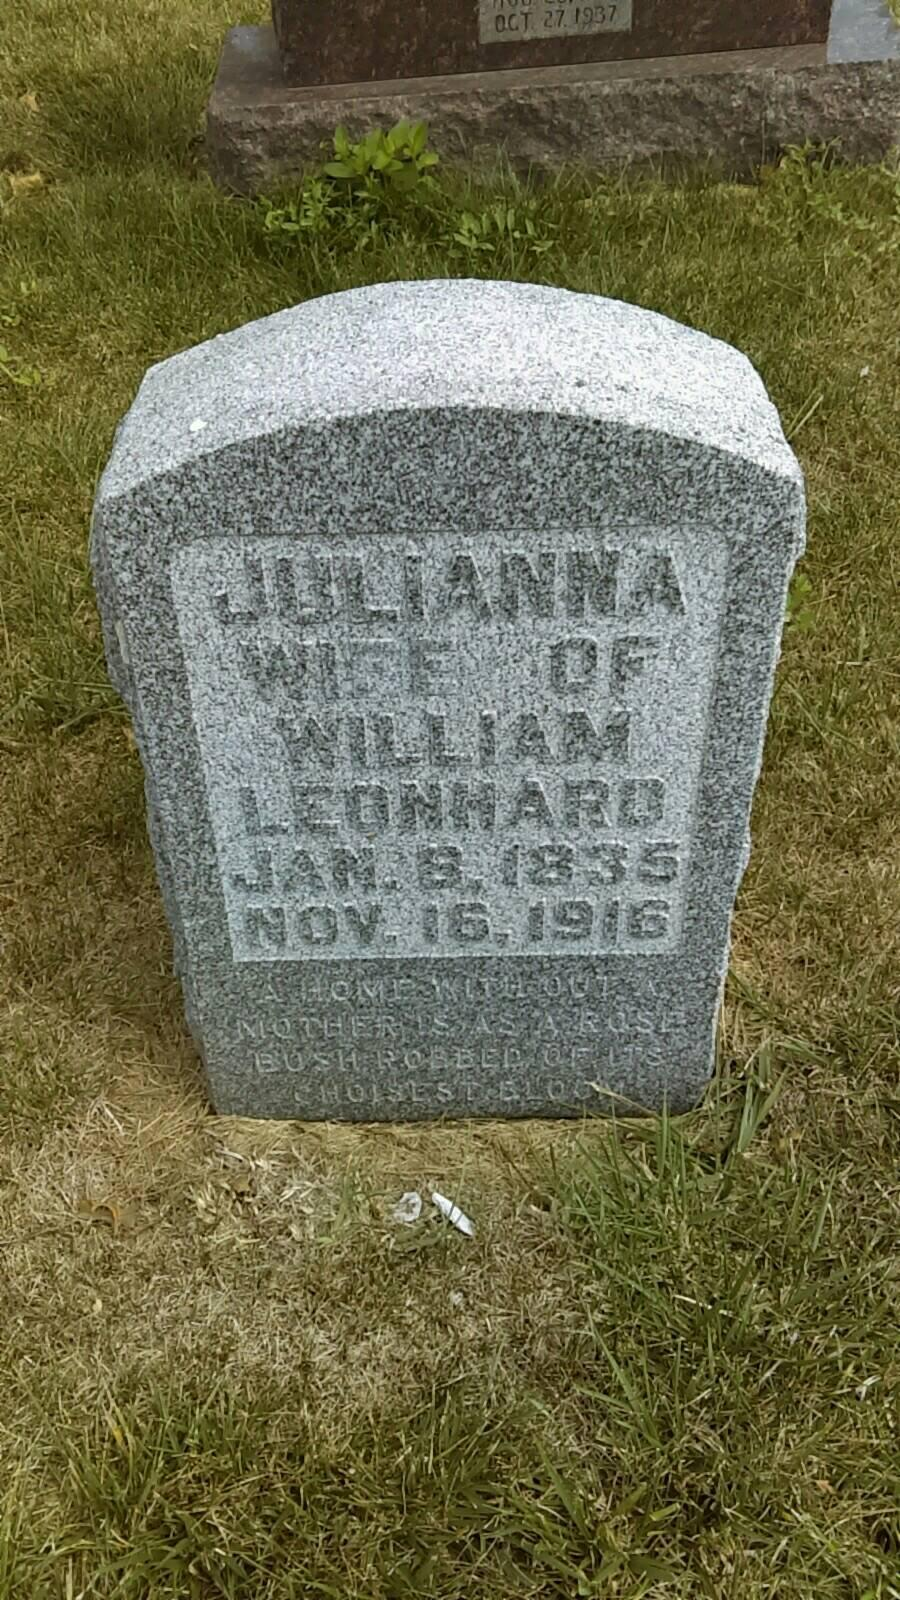upright: (111, 233, 812, 1143)
